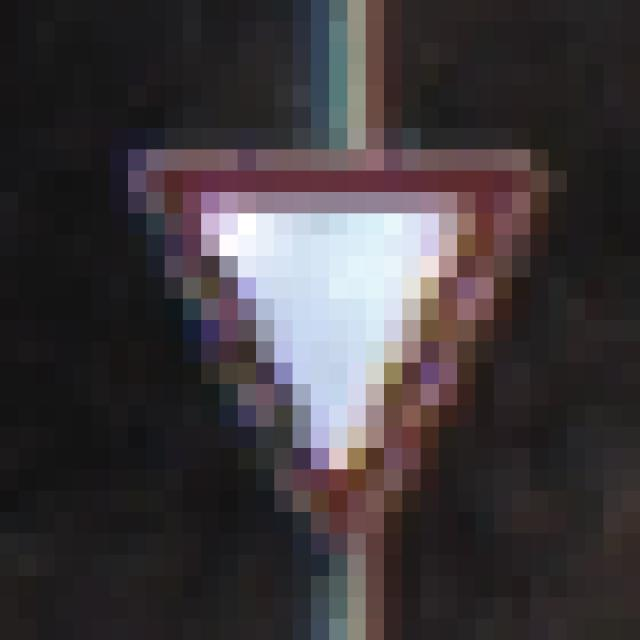Give Way: (111, 108, 550, 534)
